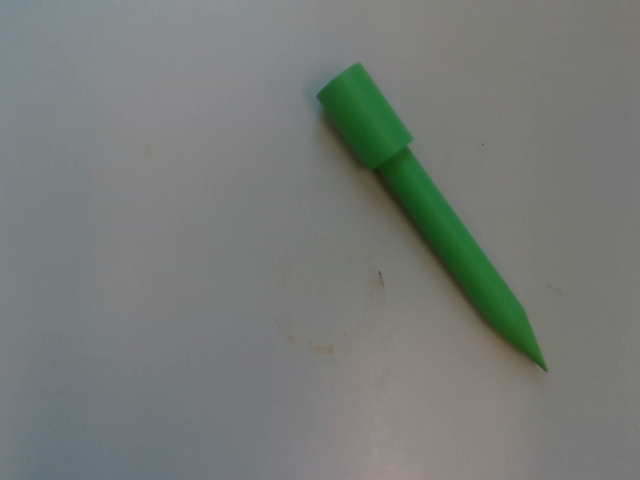Probe: (312, 57, 555, 379)
